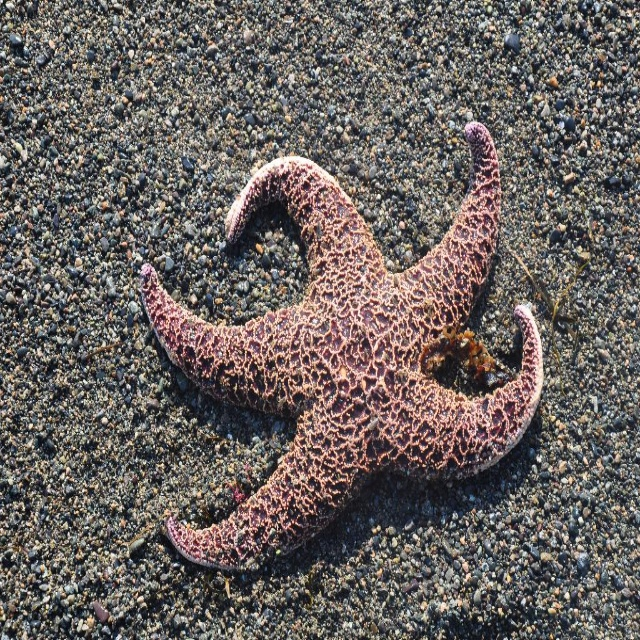Starfish: (141, 122, 544, 571)
